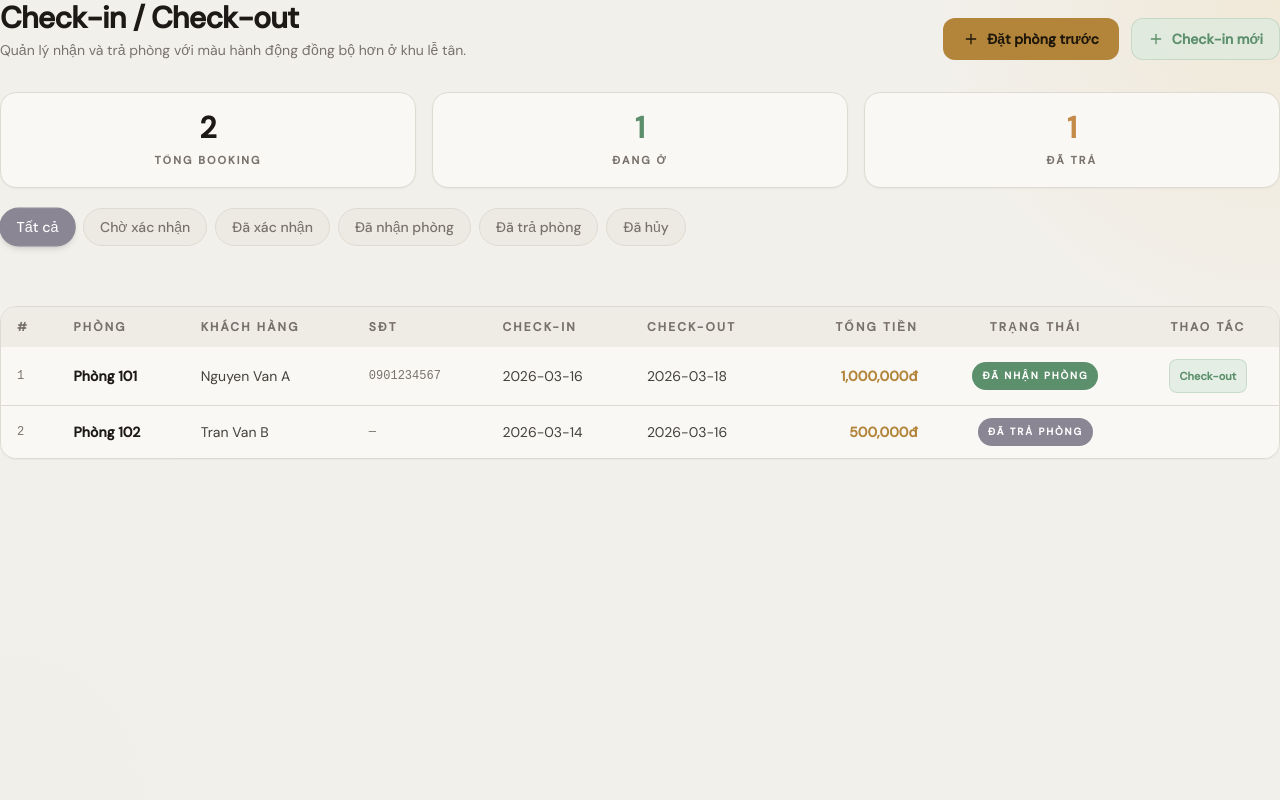
CheckInOut › toggles check-in form when button is clicked
Expected: the text "Nguyen Van A" is shown, x1=185 y1=346 x2=353 y2=405
Click the button "Check-in mới".
click(1205, 39)  # box x1=1131 y1=18 x2=1279 y2=60
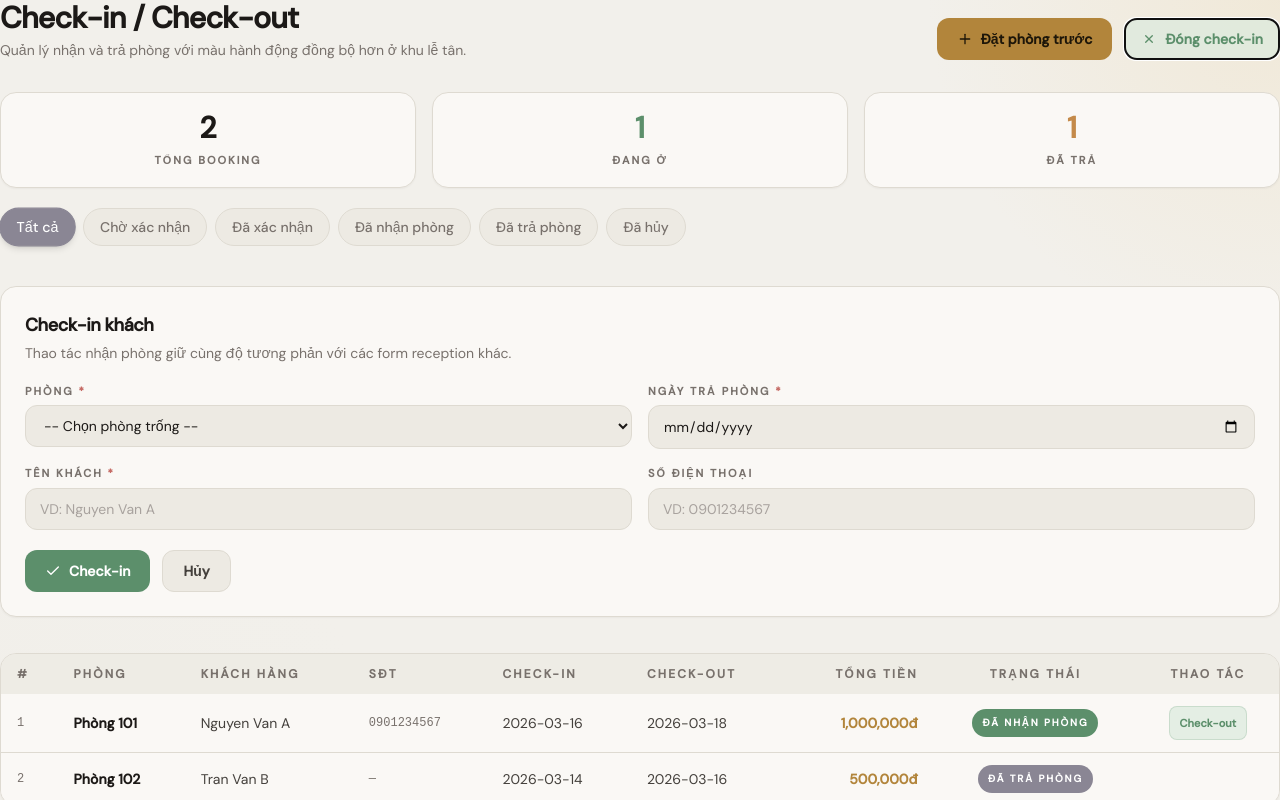
Expected: the button "Đóng check-in" is shown
Click the button "Đóng check-in".
click(1202, 39)  # box x1=1124 y1=18 x2=1279 y2=60
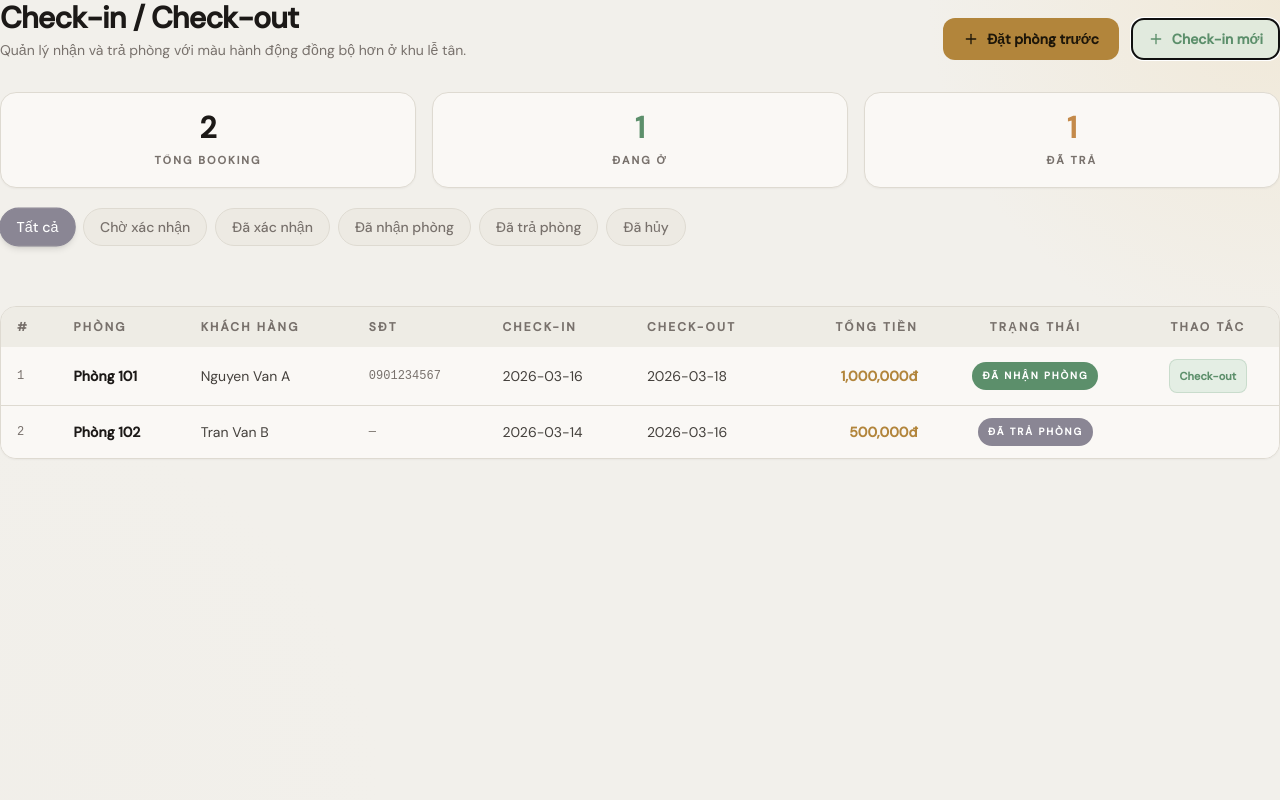
Expected: the button "Check-in mới" is shown, x1=1131 y1=18 x2=1279 y2=60
